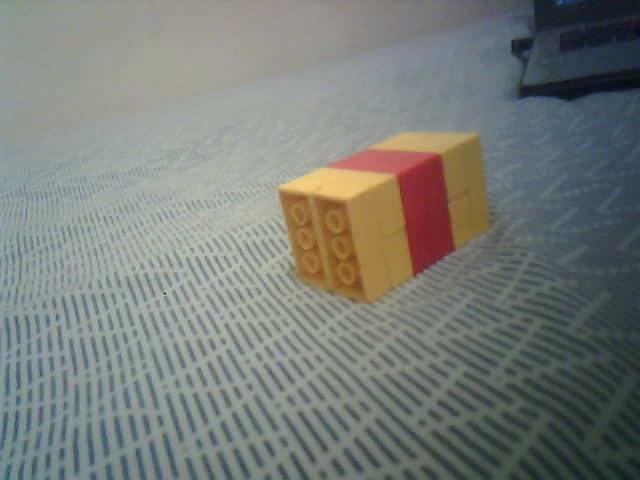lego: (276, 129, 491, 304)
